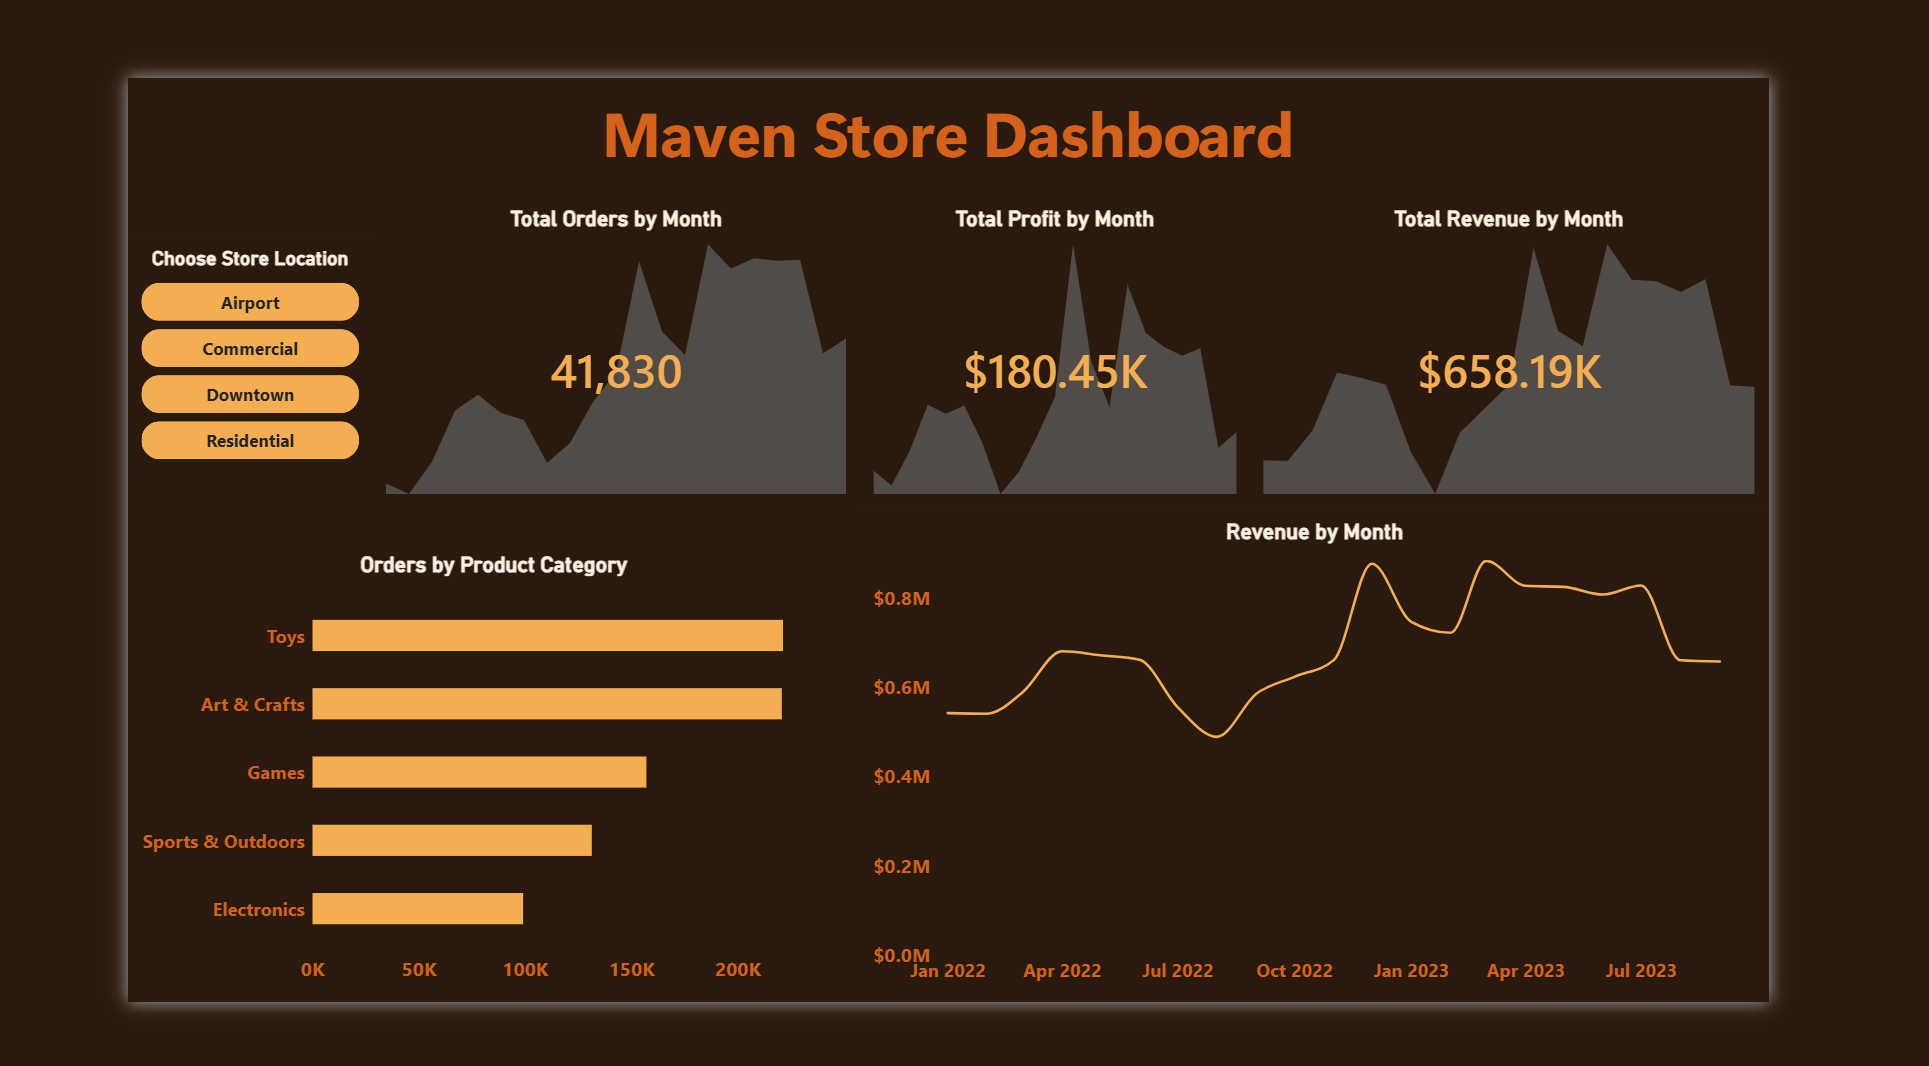

Layout of this report page (visuals, bound fields, positions):
{"tool":"powerbi","page":{"name":"Page 1","canvas":[1920,1080],"ordinal":0},"visuals":[{"type":"kpi","title":"Total Orders by Month","fields":{"Indicator":["sales.Total Orders"],"TrendLine":["calendar.Start of Month"]},"box":[286,136,570,366.7],"z":0},{"type":"kpi","title":"Total Revenue by Month","fields":{"Indicator":["sales.Total Revenue"],"TrendLine":["calendar.Start of Month"]},"box":[1312,136,606.7,366.7],"z":1000},{"type":"kpi","title":"Total Profit by Month","fields":{"Indicator":["sales.Total Profit"],"TrendLine":["calendar.Start of Month"]},"box":[856,136,456.7,366.7],"z":2000},{"type":"listSlicer","title":"Choose Store Location","fields":{"Values":["stores.Store_Location"]},"box":[0,184,286,318],"z":3000},{"type":"clusteredBarChart","title":"Orders by Product Category","fields":{"Category":["products.Product_Category"],"Y":["sales.Total Orders"]},"box":[0,540,856,540],"z":4000},{"type":"lineChart","title":"Revenue by Month","fields":{"Category":["calendar.Start of Month Hierarchy.Start of Month","calendar.Start of Month Hierarchy.Start of Week","calendar.Start of Month Hierarchy.Date"],"Y":["sales.Revenue(M)"]},"box":[856,502,1064,578],"z":5000},{"type":"textbox","box":[0,0,1918,136],"z":6000}]}

Visuals, with their boxes in screenshot pixels (x1, y1, x2, y2), scaled from the page's 1920x1080 canvas onto the 1929x1066 screenshot:
"Total Orders by Month" kpi: l=287, t=134, r=860, b=496
"Total Revenue by Month" kpi: l=1318, t=134, r=1928, b=496
"Total Profit by Month" kpi: l=860, t=134, r=1319, b=496
"Choose Store Location" listSlicer: l=0, t=182, r=287, b=495
"Orders by Product Category" clusteredBarChart: l=0, t=533, r=860, b=1065
"Revenue by Month" lineChart: l=860, t=495, r=1928, b=1065
textbox: l=0, t=0, r=1927, b=134
